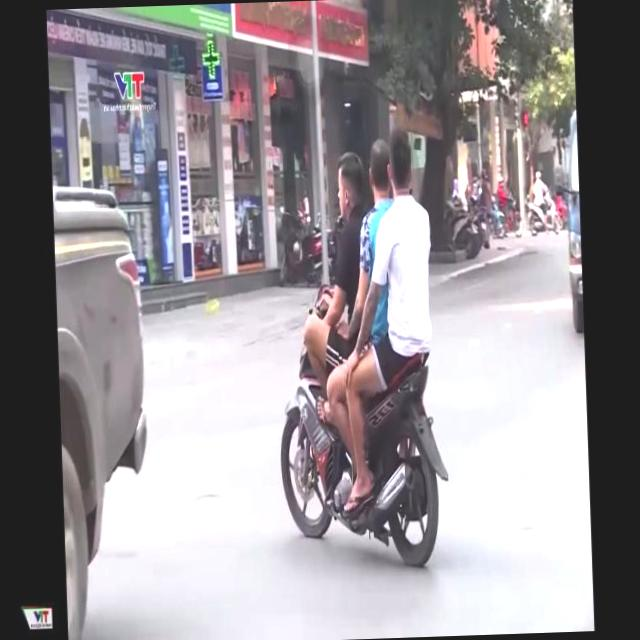motorcycle: (358, 128, 447, 422), (294, 149, 380, 444), (339, 138, 412, 422)
person: (258, 282, 450, 574)
rider_region: (258, 131, 452, 571)
